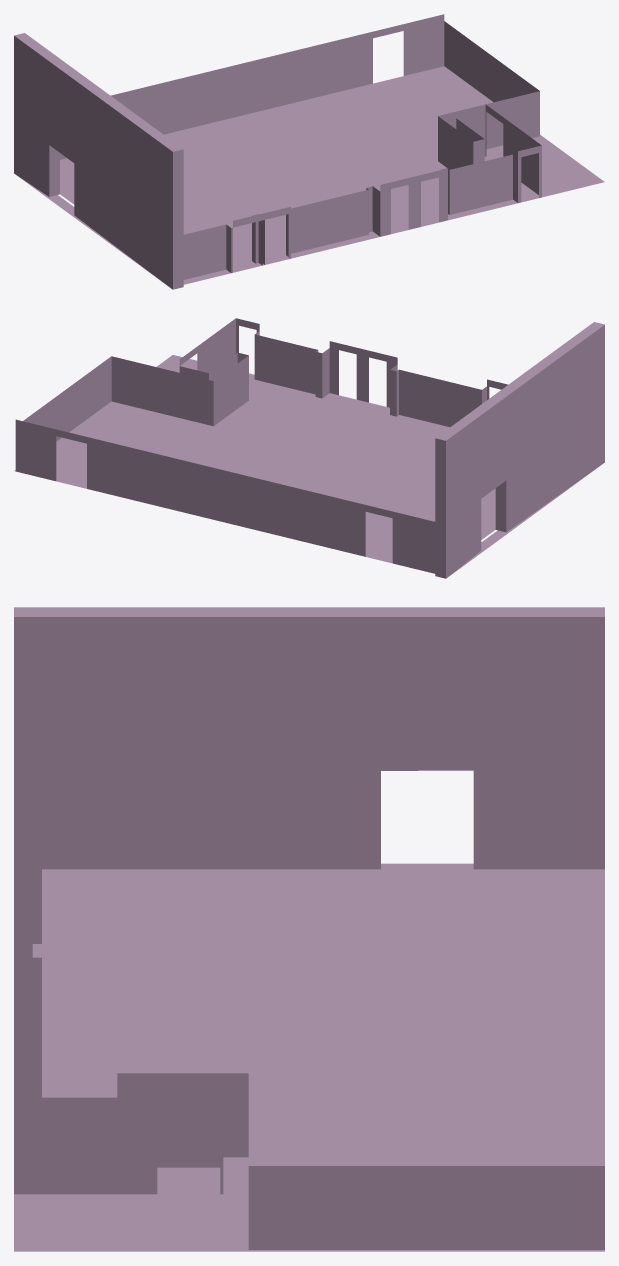
The model's file is wall_laas11.dae.
3 renders of one model, top to bottom at view 1: azimuth 30°, elevation 25°; view 2: azimuth 150°, elevation 25°; view 3: azimuth 270°, elevation 25°, orthographic. The views are drawn at different scales.
Parts seen in each view (by area): view 1: node; view 2: node; view 3: node.
Part boxes in pixels (x1,y1,x2,y2): node: (14, 14, 604, 289); node: (14, 318, 604, 578); node: (14, 607, 604, 1251).
Bounding box in the file's own units: 20 × 12.74 × 6.1.
